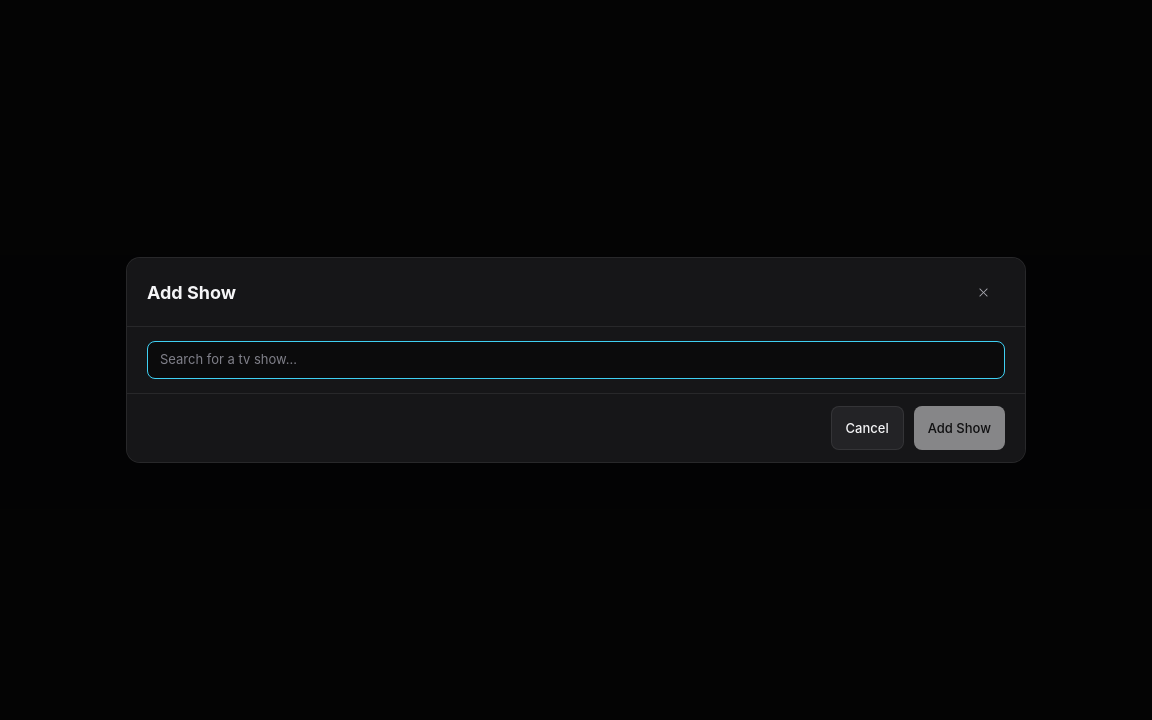
Test case: selected result details: meta line with three genres, overview clamped to 3 lines in the CSS (criterion 5)
Type "result" into the field labelled "Search for a tv show…". click: point(576, 360)
box: [147, 341, 1005, 379]
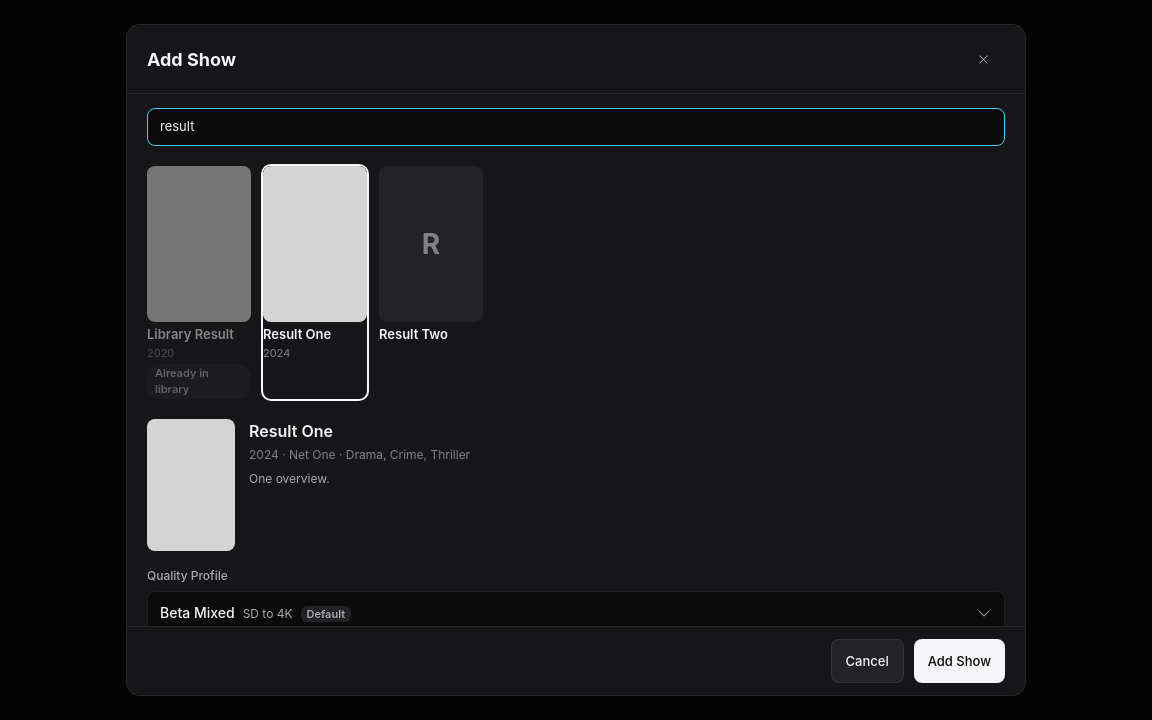
Now the text with class "selected-title" reads "Result One", box [249, 421, 333, 441]
Now the text with class "selected-meta" reads "2024 · Net One · Drama, Crime, Thriller", box [249, 447, 470, 462]
Now the text with class "selected-overview" reads "One overview.", box [249, 471, 330, 486]
Click the button with aria-label "Select Result Two". click: point(431, 282)
box: [379, 166, 483, 399]
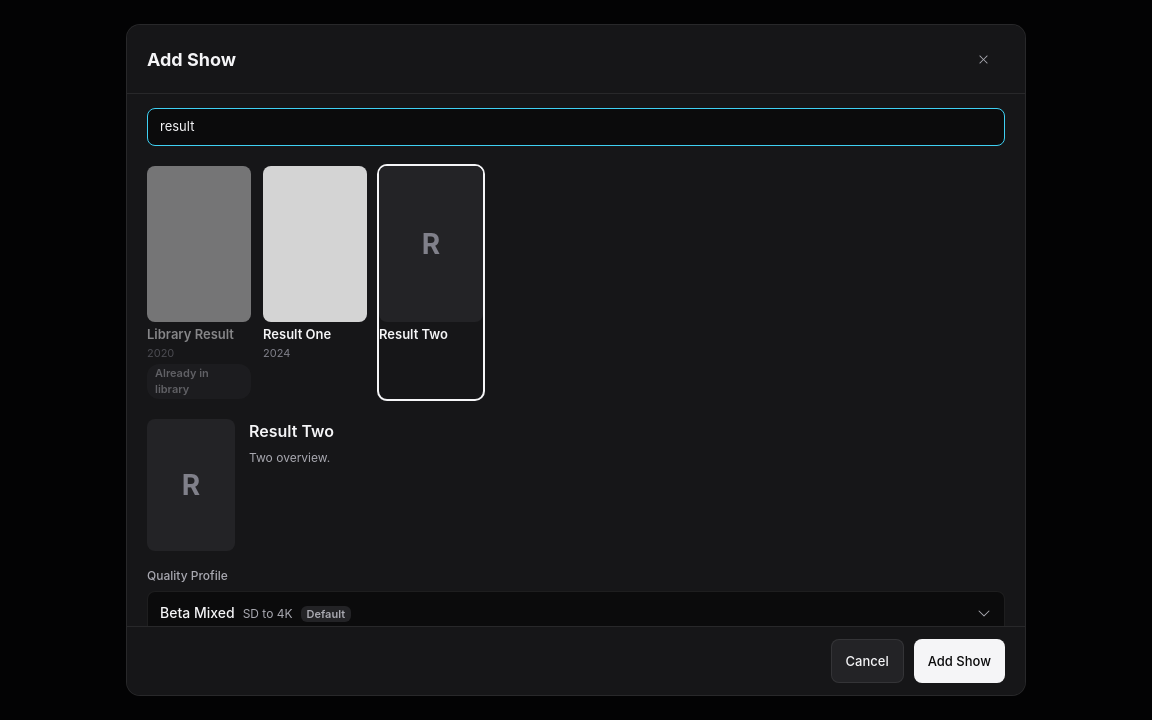
Now the text with class "selected-meta" is gone
